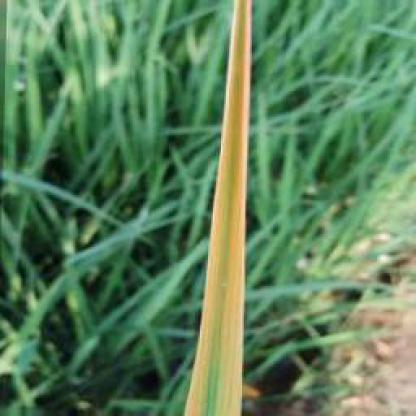Tungro: (182, 1, 252, 414)
